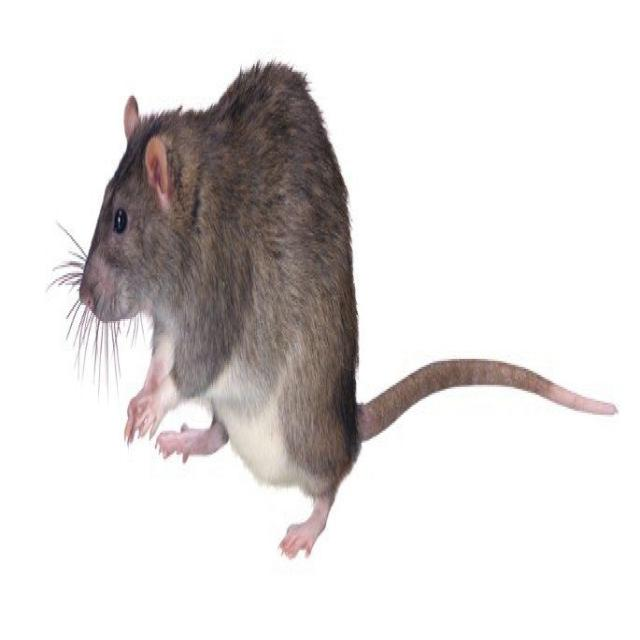rat: (54, 62, 617, 556)
